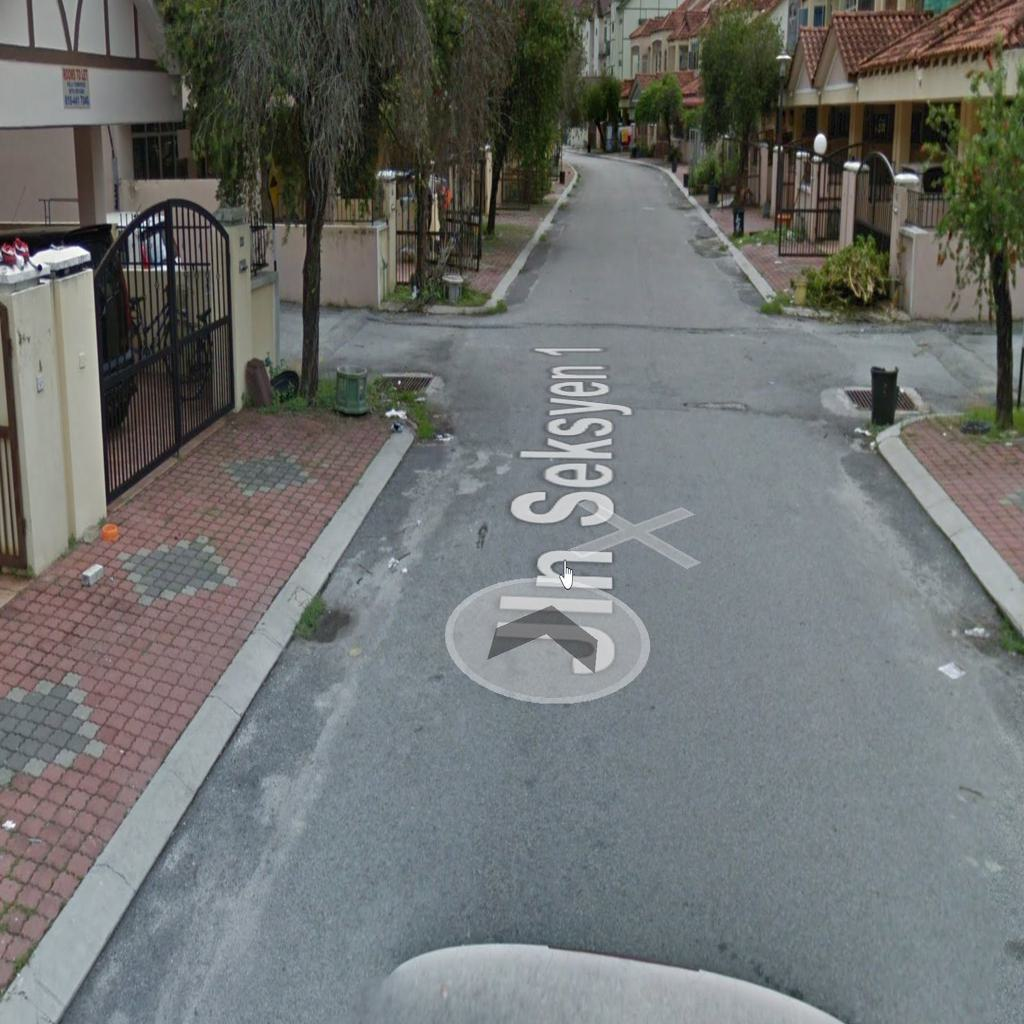Junction: (748, 271, 1014, 464), (283, 266, 516, 431)
